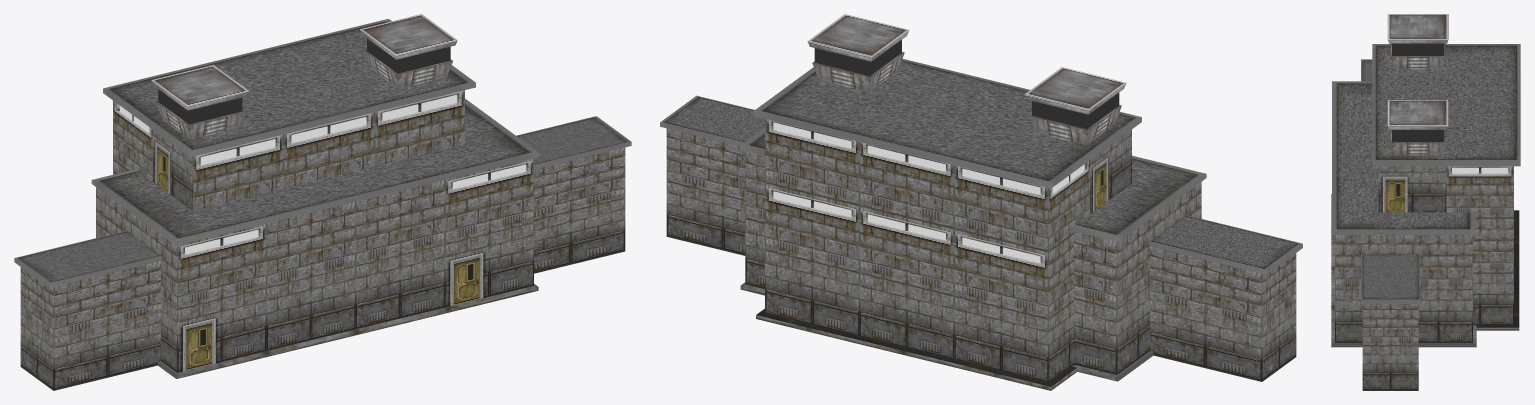
The model's file is s_admin_core.glb.
3 views of the same model, side by side, from view 1: azimuth 30°, elevation 25°; view 2: azimuth 150°, elevation 25°; view 3: azimuth 270°, elevation 25° (orthographic). The views are drawn at different scales.
Parts seen in each view (by area): view 1: S_admin_Core, Litwin_S_admin_core; view 2: S_admin_Core, Litwin_S_admin_core; view 3: S_admin_Core, Litwin_S_admin_core.
Part boxes in pixels (x1=…): S_admin_Core: x1=14, y1=14, x2=631, y2=390; Litwin_S_admin_core: x1=119, y1=94, x2=526, y2=254; S_admin_Core: x1=660, y1=14, x2=1302, y2=390; Litwin_S_admin_core: x1=773, y1=122, x2=1084, y2=263; S_admin_Core: x1=1331, y1=14, x2=1520, y2=390; Litwin_S_admin_core: x1=1452, y1=167, x2=1508, y2=173.
Size of the model in its own units: 57.41 by 22.41 by 19.08.
6 materials, 6 textured.
